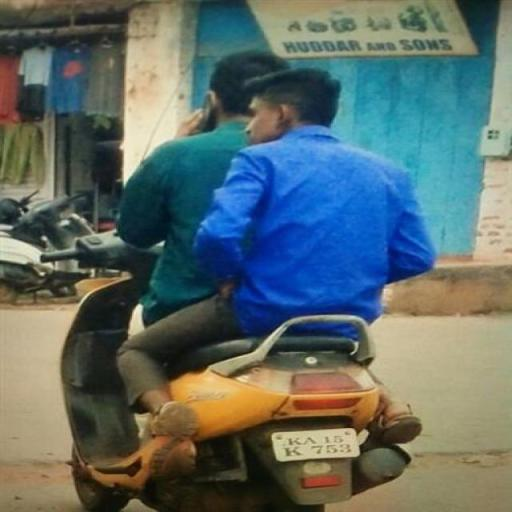using mobile: (185, 90, 228, 140)
